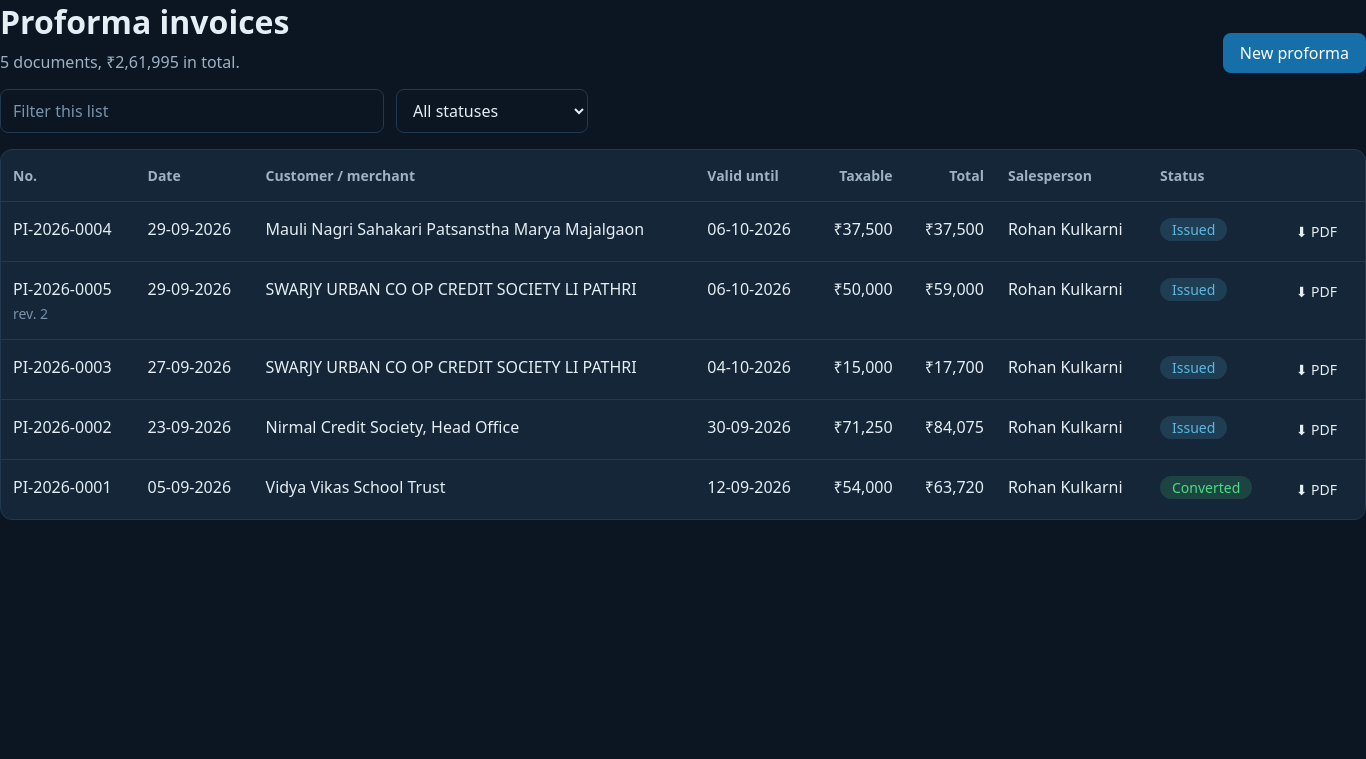
Test: Proforma document › lays out the customer, document details and lines like the printed format
Click the button "PI-2026-0004".
click(62, 229)  # box 13,218 -> 112,240
(page scrolled)
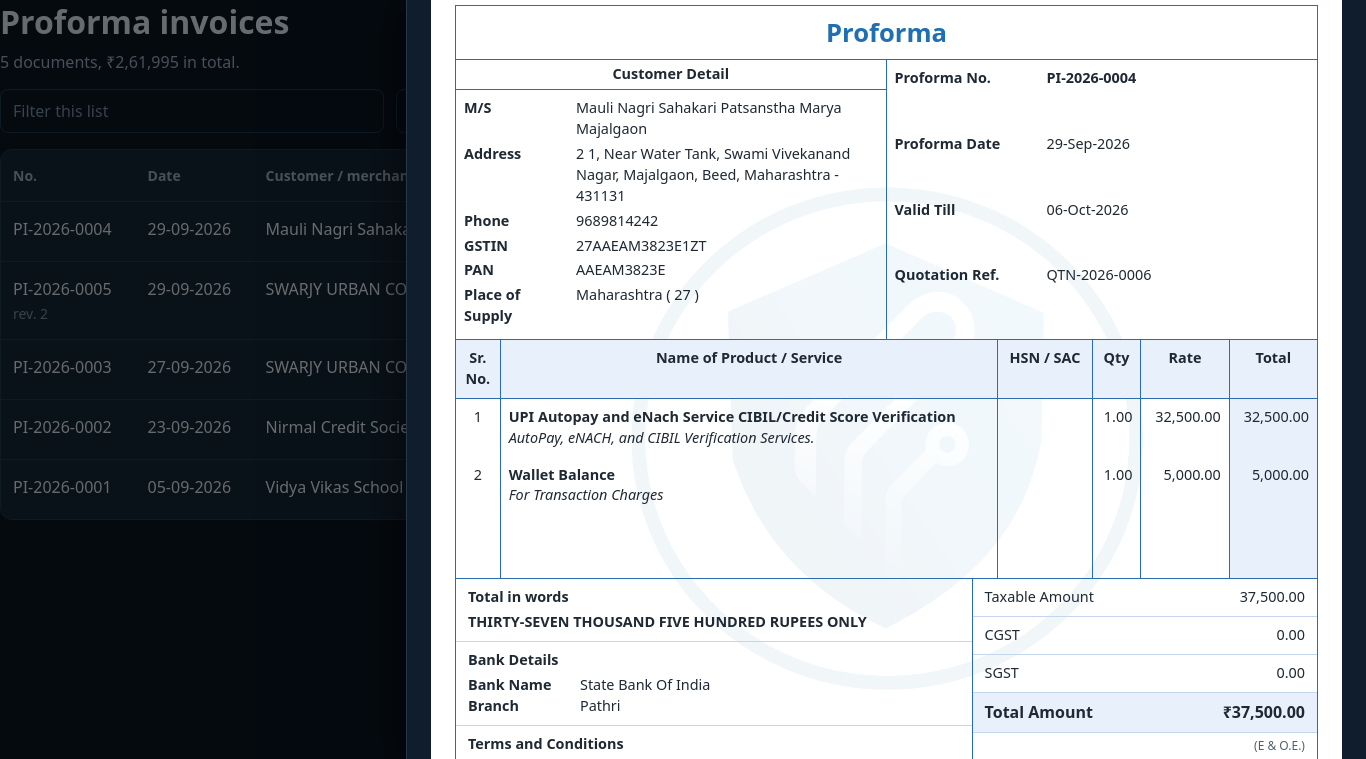
Expected: the table named "Products and services" shows "AutoPay, eNACH, and CIBIL Verification Services.", 509,428 -> 814,447
